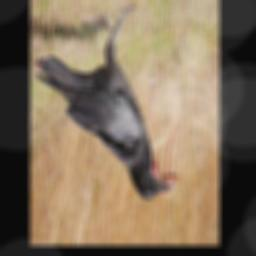Crow: (34, 6, 185, 206)
